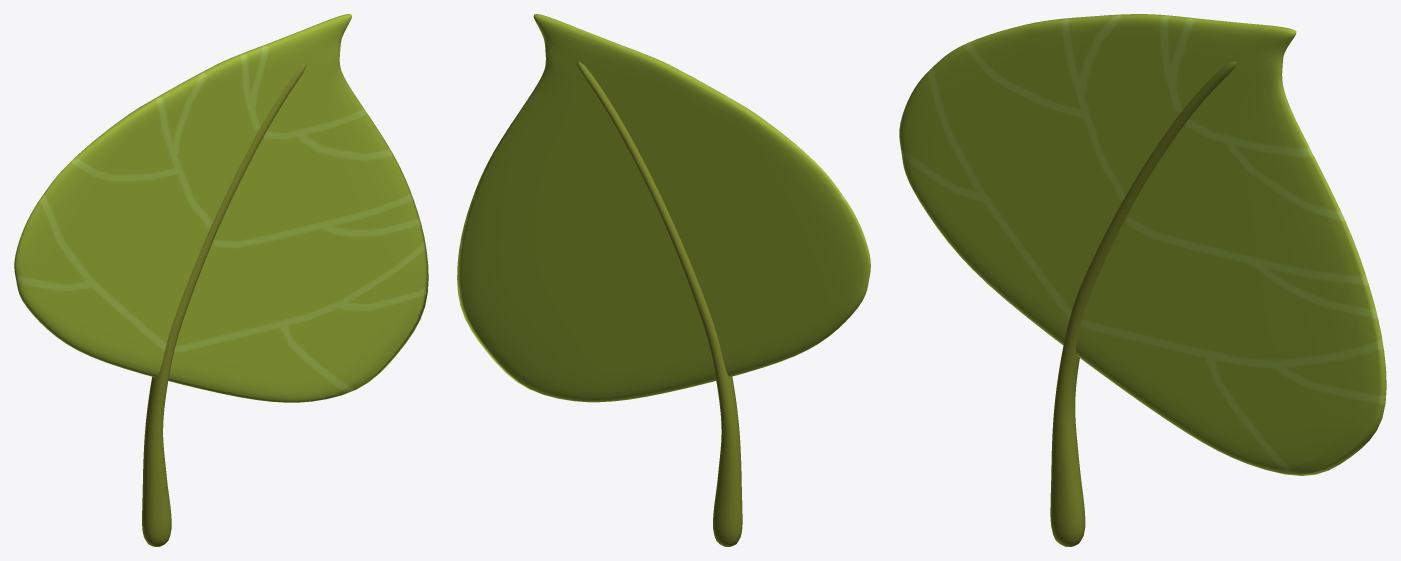
File: leaf_LOD0.fbx
The picture shows the model from 3 angles, left to right: view 1: azimuth 30°, elevation 25°; view 2: azimuth 150°, elevation 25°; view 3: azimuth 330°, elevation 25°; orthographic projection. The views are drawn at different scales.
Visible parts, largest first — view 1: cartoon leaf; view 2: cartoon leaf; view 3: cartoon leaf.
Part boxes in pixels (x1,y1,x2,y2): cartoon leaf: (14, 14, 428, 546); cartoon leaf: (457, 14, 870, 546); cartoon leaf: (899, 14, 1386, 546).
Size of the model in its own units: 301 by 337 by 16.
